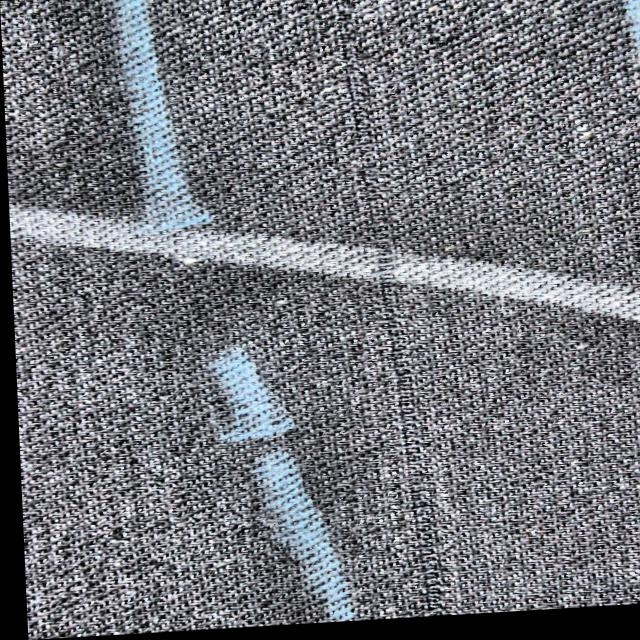Hole: (338, 3, 434, 617), (355, 24, 453, 618)
